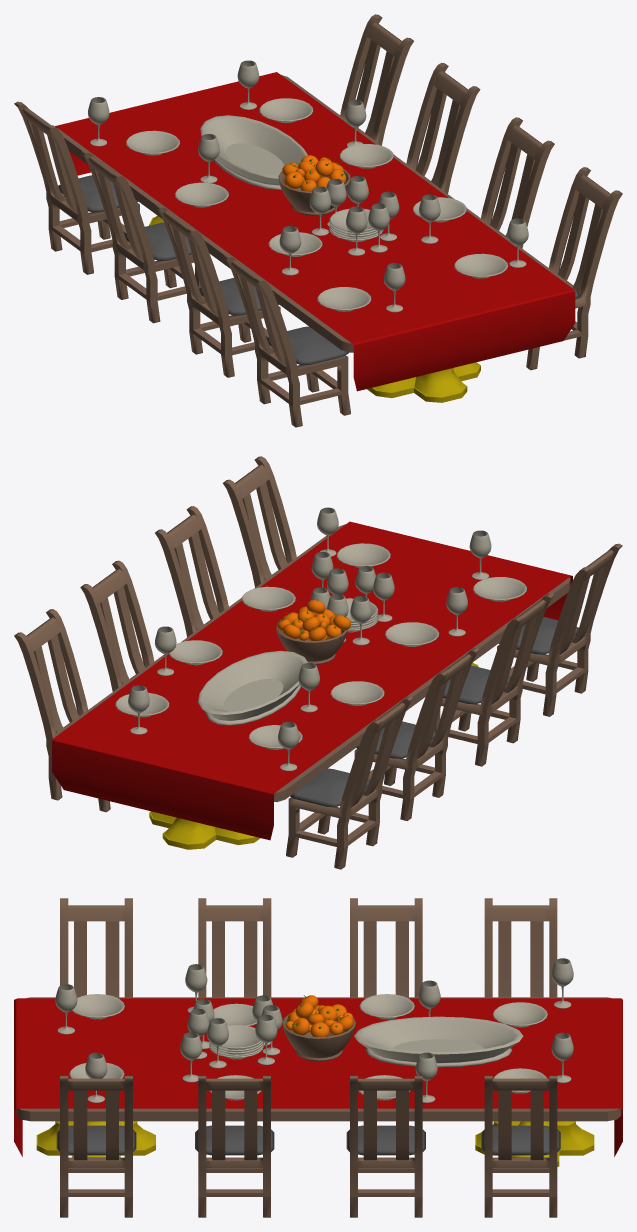
The model's file is DIning Table.fbx.
The picture shows the model from 3 angles, top to bottom: view 1: azimuth 30°, elevation 25°; view 2: azimuth 150°, elevation 25°; view 3: azimuth 270°, elevation 25°; orthographic projection.
Visible parts, largest first — view 1: pPlane1, pasted__pCube23, pasted__pCube24, pasted__pCube22, pasted__pCube25, pasted__pCube8, pCylinder7, pasted__pCube20, pasted__pCube19, pasted__pCube21, pCube1, pasted__pasted__pCube3 (+20 smaller); view 2: pPlane1, pasted__pCube25, pasted__pCube22, pasted__pCube23, pasted__pCube24, pCylinder7, pasted__pCube21, pasted__pCube8, pasted__pCube20, pasted__pCube19, pCube1, pasted__pasted__pCube2 (+18 smaller); view 3: pPlane1, pasted__pCube21, pasted__pCube8, pasted__pCube19, pasted__pCube20, pCube1, pCylinder7, pasted__pCube25, pasted__pCube24, pasted__pCube23, pasted__pCube22, pCylinder3 (+20 smaller).
Part boxes in pixels (x1,y1,x2,y2): pPlane1: (55, 72, 575, 391); pasted__pCube23: (223, 254, 350, 427); pasted__pCube24: (80, 150, 205, 323); pasted__pCube22: (155, 204, 280, 377); pasted__pCube25: (14, 101, 139, 274); pasted__pCube8: (526, 167, 622, 370); pCylinder7: (200, 115, 307, 189); pasted__pCube20: (406, 62, 480, 193); pasted__pCube19: (481, 117, 554, 248); pasted__pCube21: (340, 14, 413, 145); pCube1: (57, 75, 572, 352); pasted__pasted__pCube3: (367, 362, 480, 402); pPlane1: (52, 521, 572, 840); pasted__pCube25: (286, 696, 413, 869); pasted__pCube22: (429, 593, 554, 766); pasted__pCube23: (497, 543, 622, 716); pasted__pCube24: (354, 648, 480, 820); pCylinder7: (198, 650, 307, 725); pasted__pCube21: (14, 609, 110, 812); pasted__pCube8: (223, 456, 296, 587); pasted__pCube20: (80, 560, 154, 691); pasted__pCube19: (155, 506, 228, 637); pCube1: (54, 524, 570, 801); pasted__pasted__pCube2: (149, 811, 260, 849); pPlane1: (14, 998, 622, 1156); pasted__pCube21: (481, 1075, 560, 1217); pasted__pCube8: (56, 1075, 136, 1217); pasted__pCube19: (195, 1075, 274, 1217); pasted__pCube20: (346, 1075, 425, 1217); pCube1: (16, 997, 621, 1121); pCylinder7: (354, 1016, 523, 1067); pasted__pCube25: (484, 898, 557, 997); pasted__pCube24: (350, 898, 422, 997); pasted__pCube23: (60, 898, 132, 997); pasted__pCube22: (198, 898, 271, 997); pCylinder3: (282, 1013, 355, 1061).
Size of the model in its own units: 3.23 by 1.32 by 4.6.
